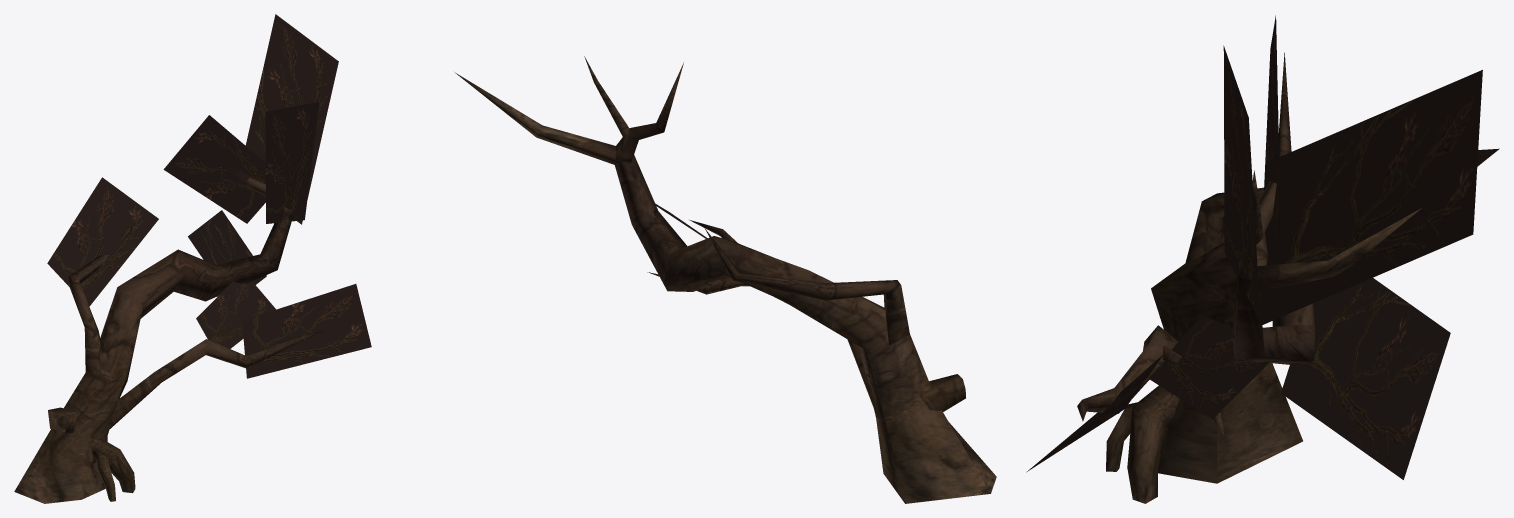
File: yw_yanmenguan_kushu02.FBX
3 renders of one model, left to right at view 1: azimuth 30°, elevation 25°; view 2: azimuth 150°, elevation 25°; view 3: azimuth 270°, elevation 25°, orthographic. The views are drawn at different scales.
Visible parts, largest first — view 1: yw_yanmenguan_kushu02; view 2: yw_yanmenguan_kushu02; view 3: yw_yanmenguan_kushu02.
Boxes of the visible parts, x1,y1,x2,y2 form: yw_yanmenguan_kushu02: [14, 14, 371, 503]; yw_yanmenguan_kushu02: [455, 56, 996, 503]; yw_yanmenguan_kushu02: [1026, 15, 1499, 503].
Size of the model in its own units: 275 by 233 by 156.
